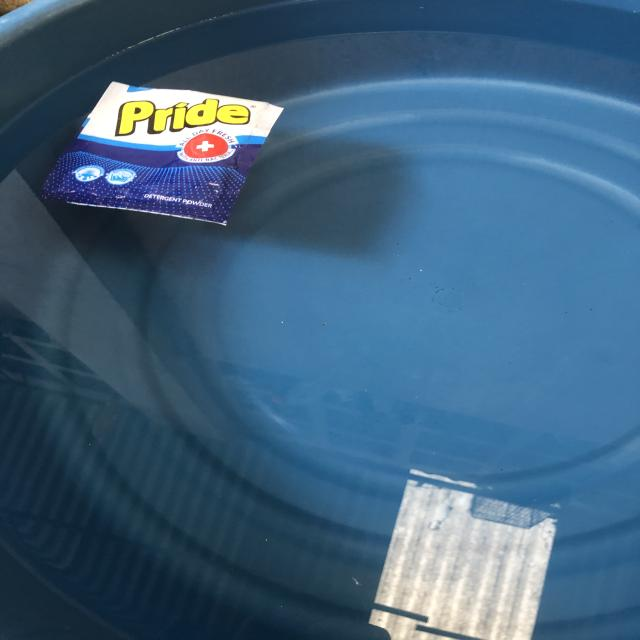Plastic Wrapper: (43, 80, 292, 226)
